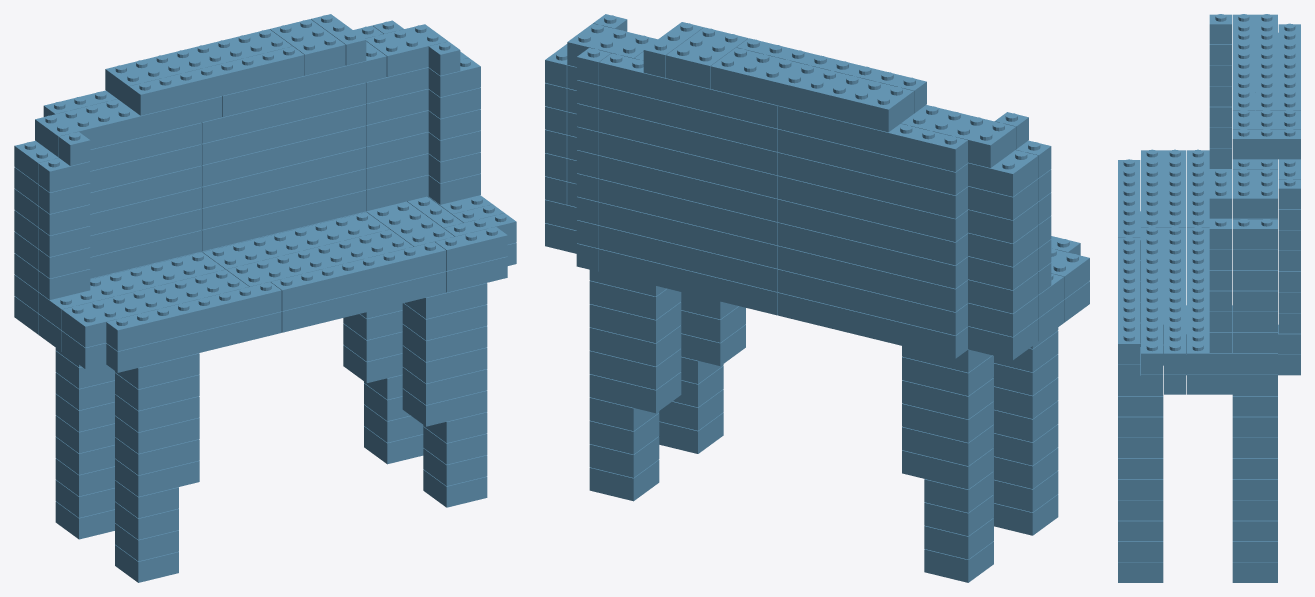
File: 227_table_L2.glb
The picture shows the model from 3 angles, left to right: view 1: azimuth 30°, elevation 25°; view 2: azimuth 150°, elevation 25°; view 3: azimuth 270°, elevation 25°; orthographic projection. The views are drawn at different scales.
Bounding box in the file's own units: 20.98 × 20.13 × 7.98.
